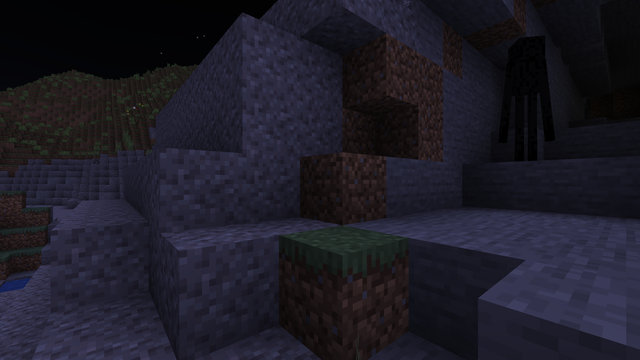endermens: (506, 28, 544, 135)
